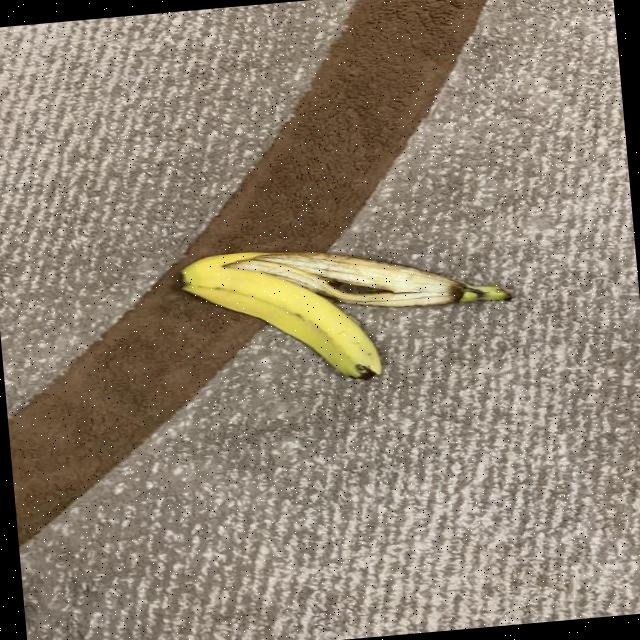banana-peel: (175, 238, 384, 396), (224, 227, 512, 326)
